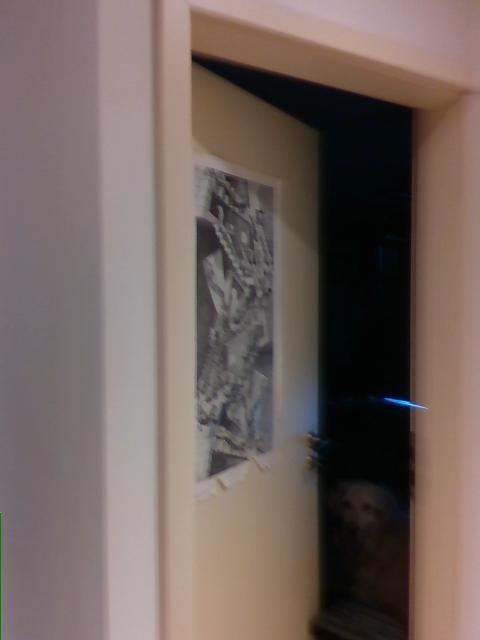semi_door: (150, 1, 479, 639)
